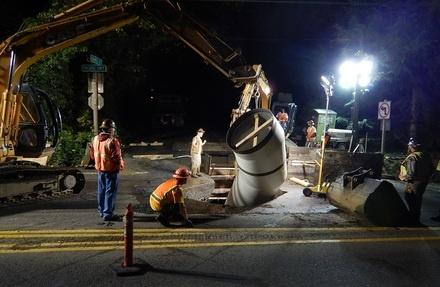Vest: (91, 135, 121, 172), (150, 180, 182, 212)
